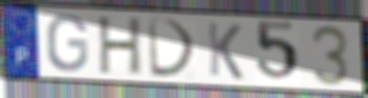3: (309, 23, 351, 89)
5: (253, 19, 302, 87)
D: (145, 15, 200, 79)
G: (45, 14, 90, 74)
H: (97, 15, 143, 78)
K: (205, 20, 245, 82)
